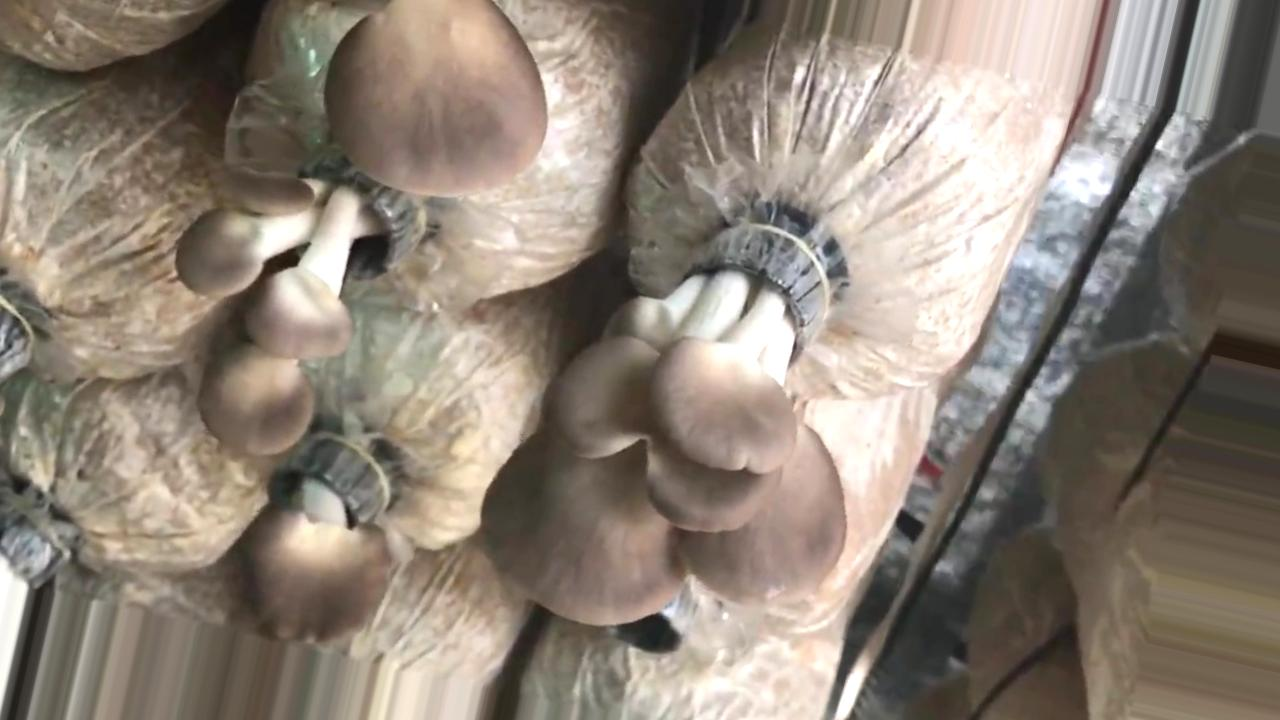nam: (480, 231, 845, 623), (180, 149, 422, 451), (324, 1, 542, 196), (234, 447, 396, 641)
